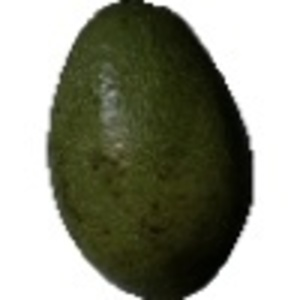abacate: (35, 2, 255, 296)
